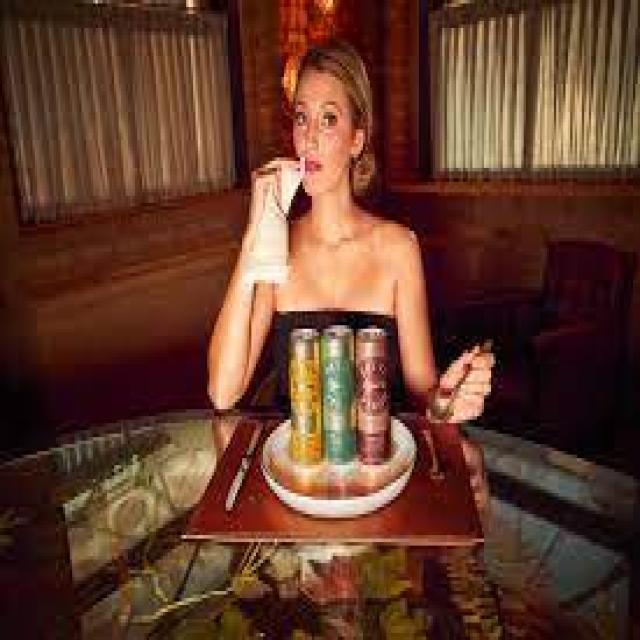Cans: (354, 318, 398, 469), (284, 318, 326, 472), (319, 314, 361, 468)
